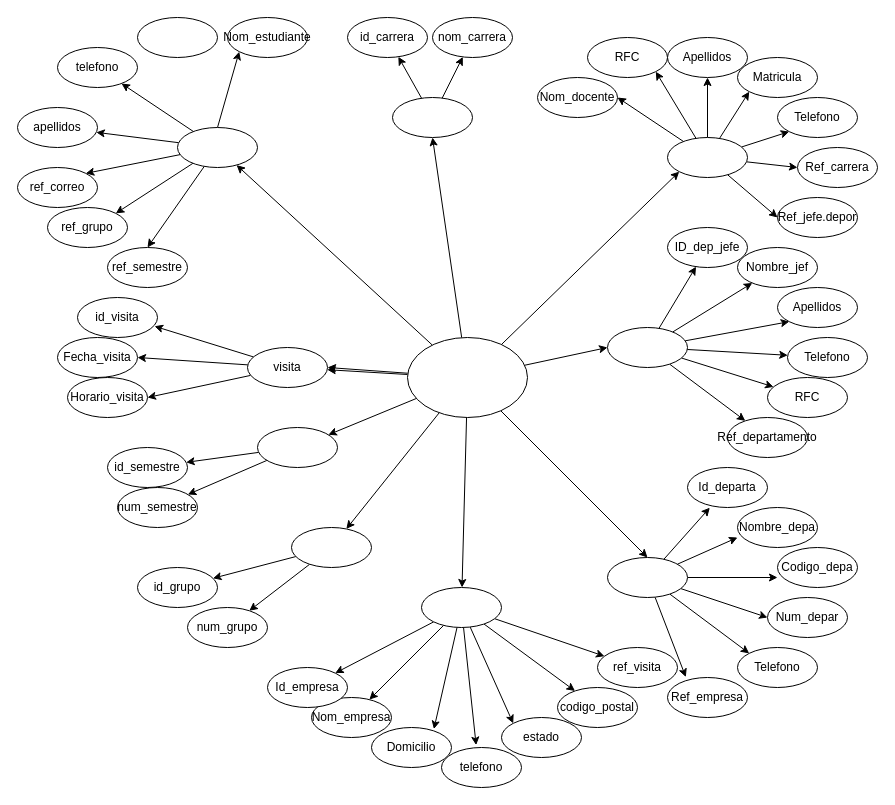
The diagram is 895 pixels wide and 805 high, and some of its shapes have lost their labels. Here are the shapes that lost their labels. From the top down, the box of each, then its label:
(136, 16, 218, 58): Num_control
(392, 96, 472, 138): carrera
(176, 126, 258, 168): estudiante
(666, 136, 748, 178): docente
(606, 326, 688, 368): jefe de departamento
(406, 336, 528, 418): departamento academico
(256, 426, 338, 468): semestre
(290, 526, 372, 568): grupo
(606, 556, 688, 598): Departamento
(420, 586, 502, 628): Empresa
